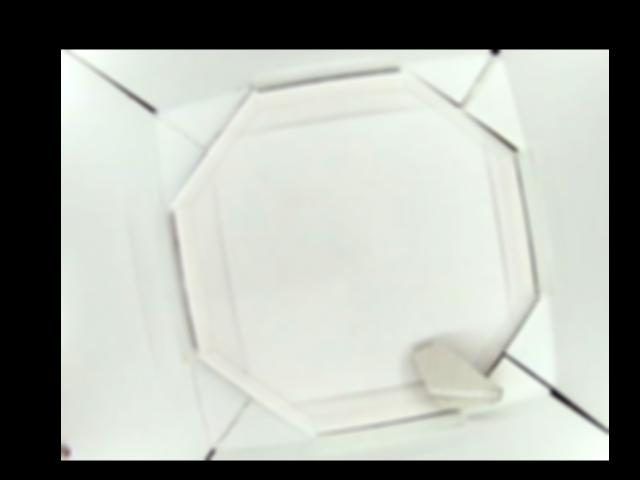China: (412, 337, 506, 415)
